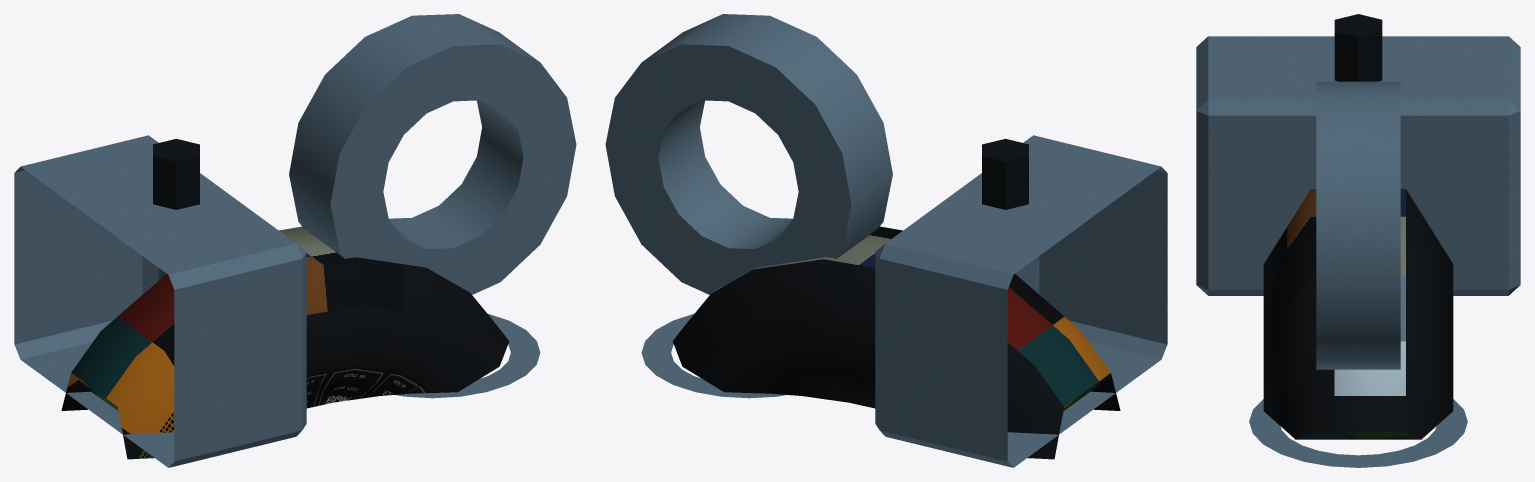
Rendered from cell_11.obj.
3 views of the same model, side by side, from view 1: azimuth 30°, elevation 25°; view 2: azimuth 150°, elevation 25°; view 3: azimuth 270°, elevation 25° (orthographic).
Visible parts, largest first — view 1: cell_11; view 2: cell_11; view 3: cell_11.
Boxes of the visible parts, bbox=[...] form: cell_11: bbox=[14, 14, 576, 467]; cell_11: bbox=[605, 14, 1167, 467]; cell_11: bbox=[1196, 14, 1520, 467].
Bounding box in the file's own units: 0.45 × 0.3 × 0.27.
